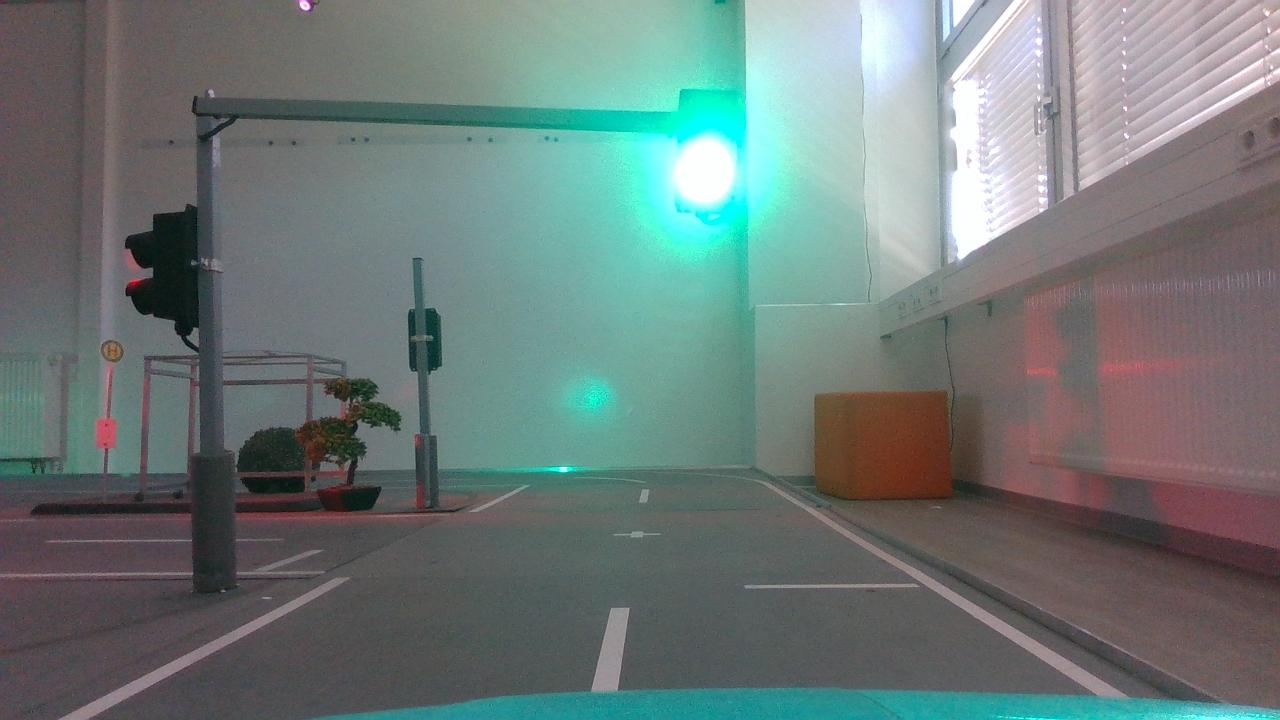traffic_light_green: (643, 67, 764, 251)
